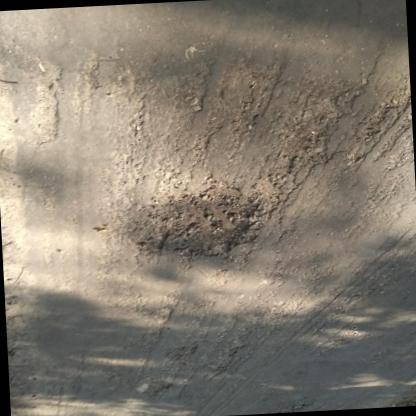pothole: (132, 180, 265, 264)
